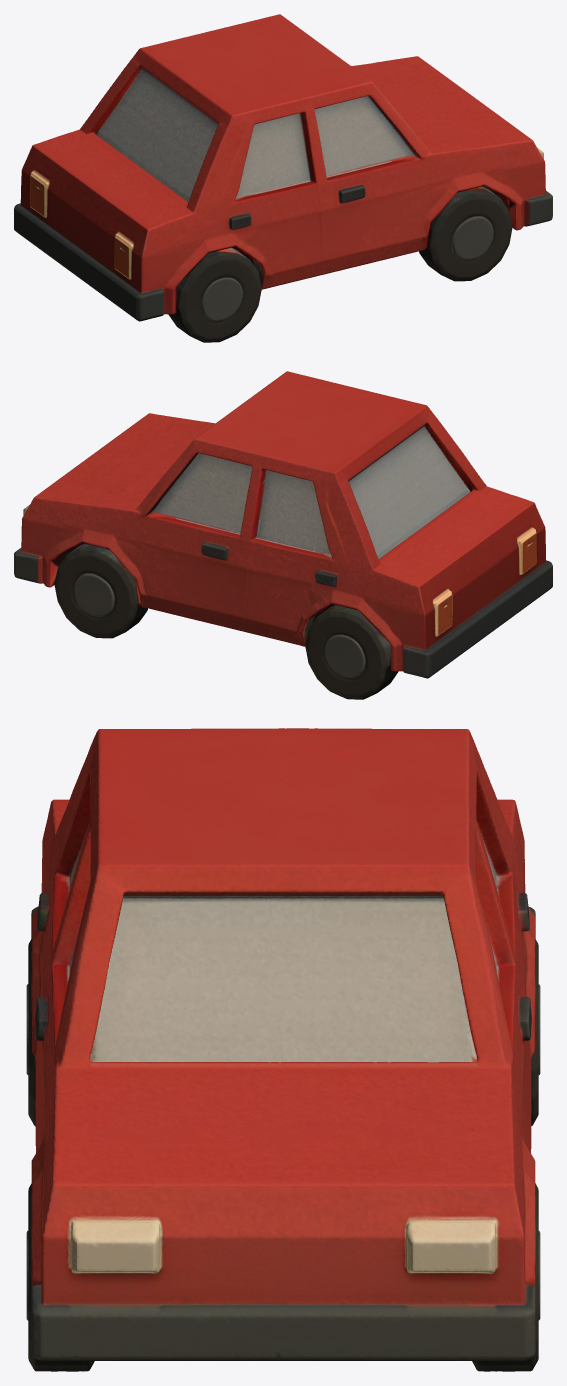
Rendered from CAR.glb.
3 renders of one model, top to bottom at view 1: azimuth 30°, elevation 25°; view 2: azimuth 150°, elevation 25°; view 3: azimuth 270°, elevation 25°, orthographic. The views are drawn at different scales.
Visible parts, largest first — view 1: tripo_node_30537520; view 2: tripo_node_30537520; view 3: tripo_node_30537520.
Part boxes in pixels (x1=…): tripo_node_30537520: x1=14, y1=14, x2=552, y2=342; tripo_node_30537520: x1=14, y1=371, x2=552, y2=699; tripo_node_30537520: x1=26, y1=728, x2=540, y2=1371.
Size of the model in its own units: 1 by 0.4764 by 0.5326.
1 material, 1 textured.
